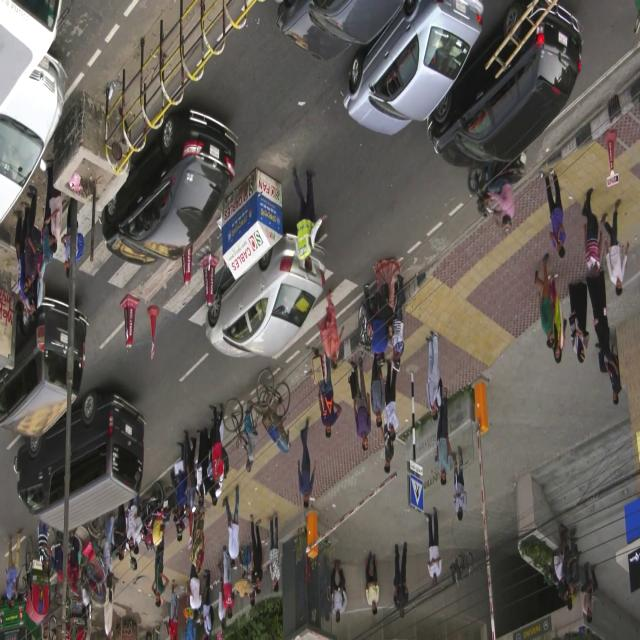black: (428, 8, 588, 176), (98, 109, 244, 267), (204, 229, 325, 365), (10, 418, 145, 533), (0, 305, 88, 441)
silver: (354, 1, 476, 126), (0, 33, 66, 238)
